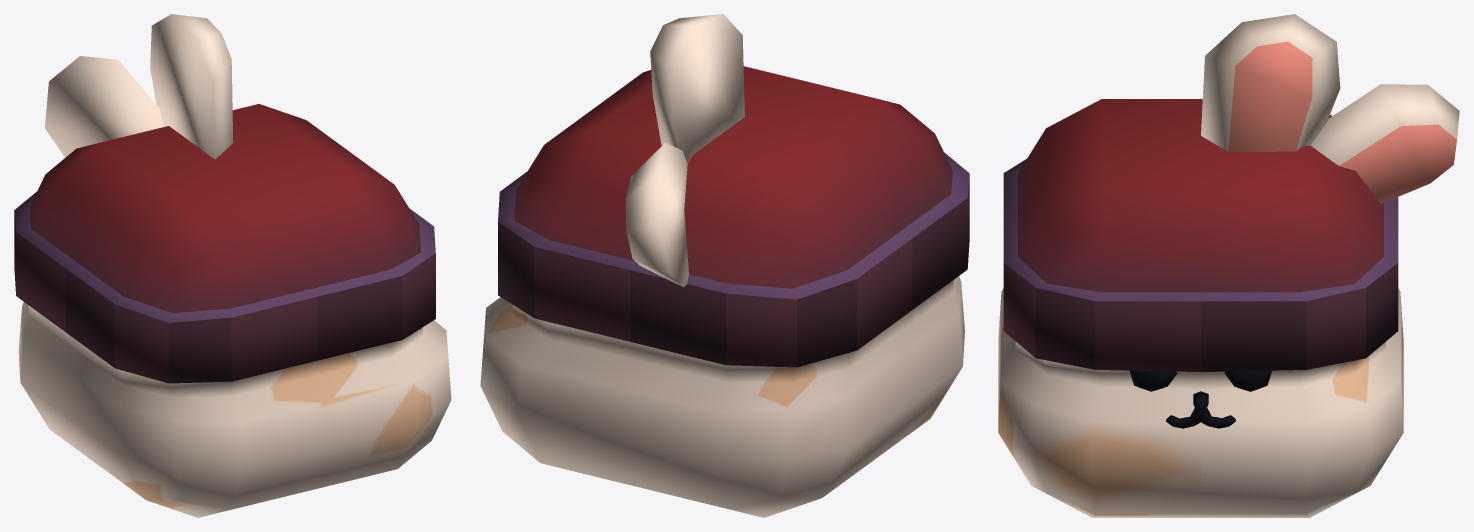
File: Bunny4.fbx
The picture shows the model from 3 angles, left to right: view 1: azimuth 30°, elevation 25°; view 2: azimuth 150°, elevation 25°; view 3: azimuth 270°, elevation 25°; orthographic projection. The views are drawn at different scales.
Parts seen in each view (by area): view 1: Bunny4; view 2: Bunny4; view 3: Bunny4.
Boxes of the visible parts, x1,y1,x2,y2 form: Bunny4: [14, 14, 451, 517]; Bunny4: [480, 14, 969, 517]; Bunny4: [998, 14, 1459, 517].
Bounding box in the file's own units: 205 × 244 × 228.
